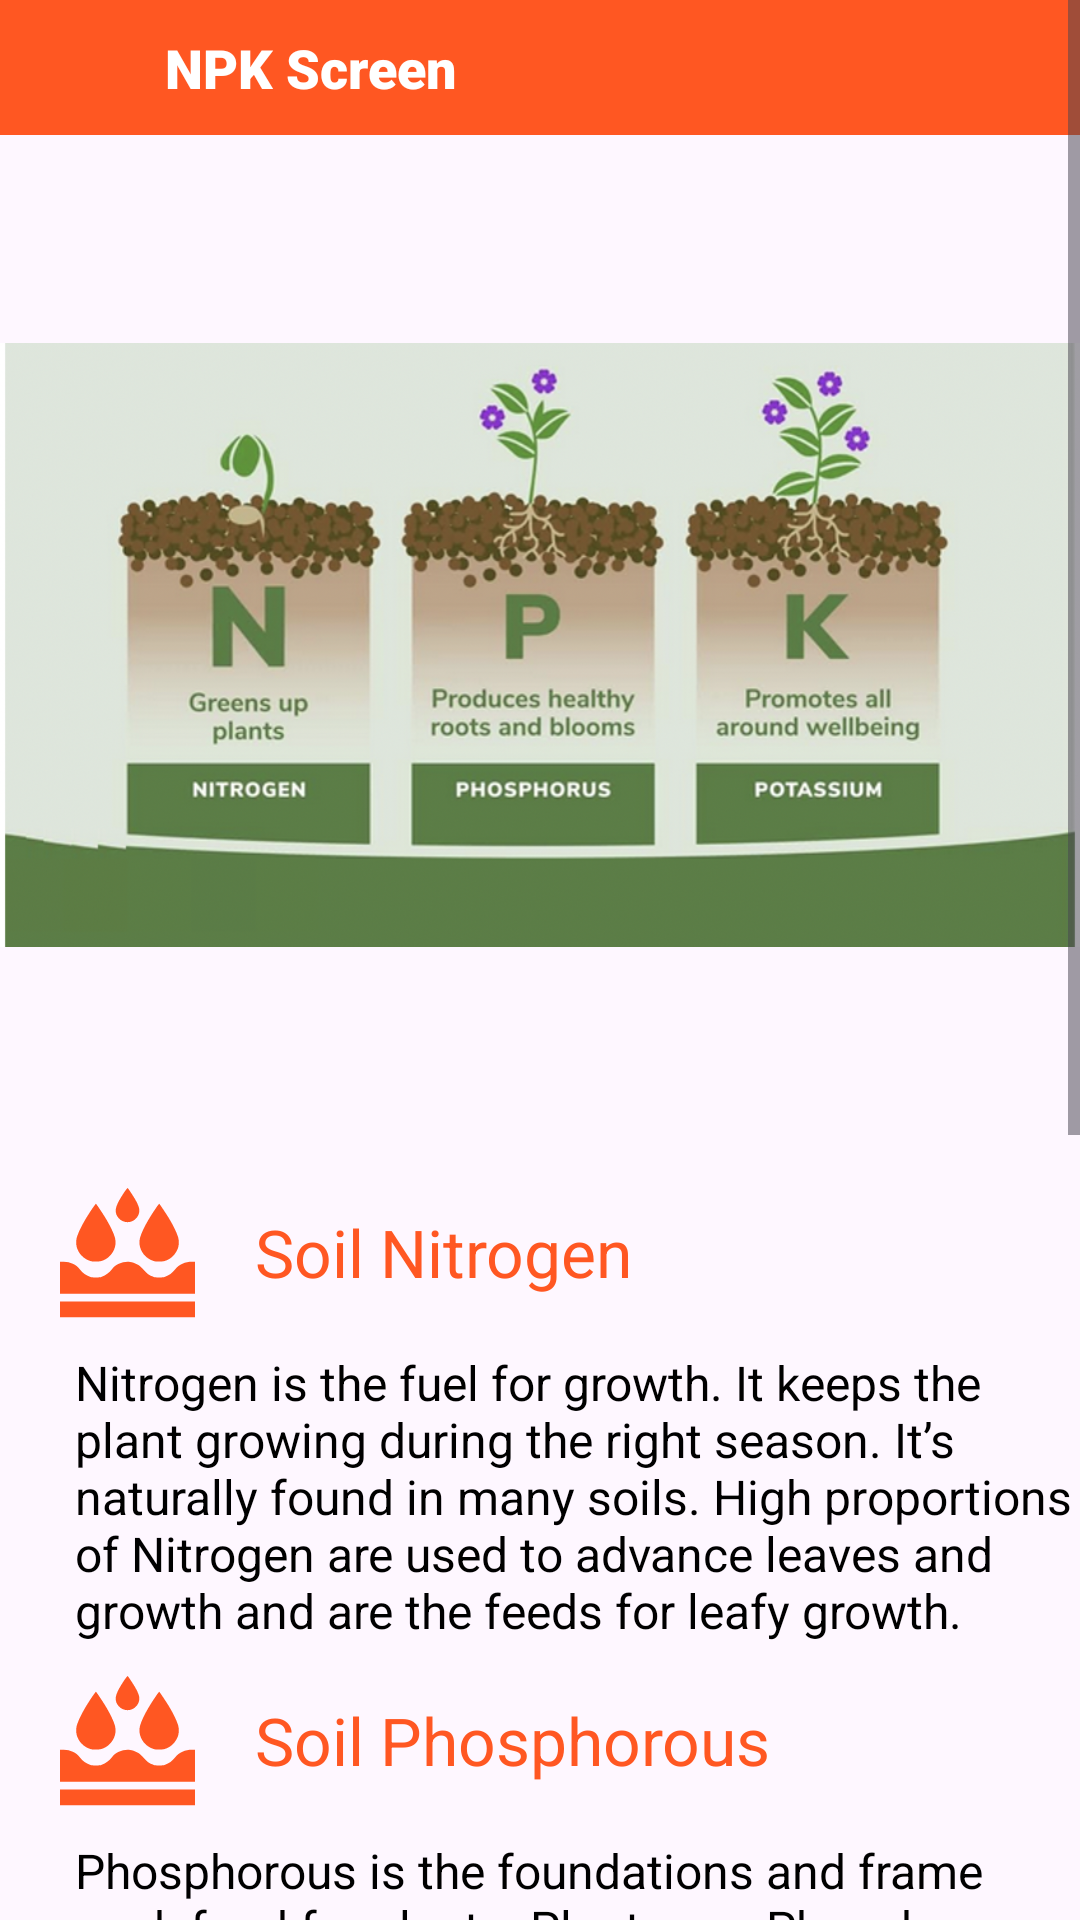

Icon click points for this 1080 x 1920 phone screenshot, format (x=x, y=y):
moisture frozee: (x=127, y=1253), (x=127, y=1741)
